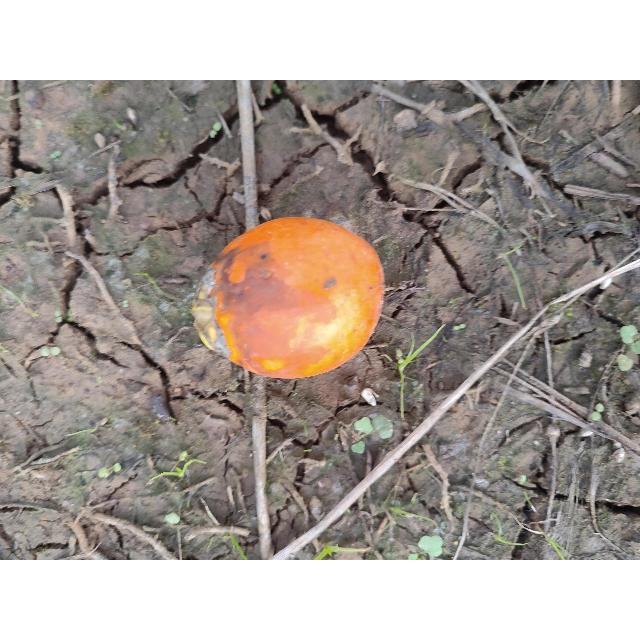good: (191, 217, 386, 381)
